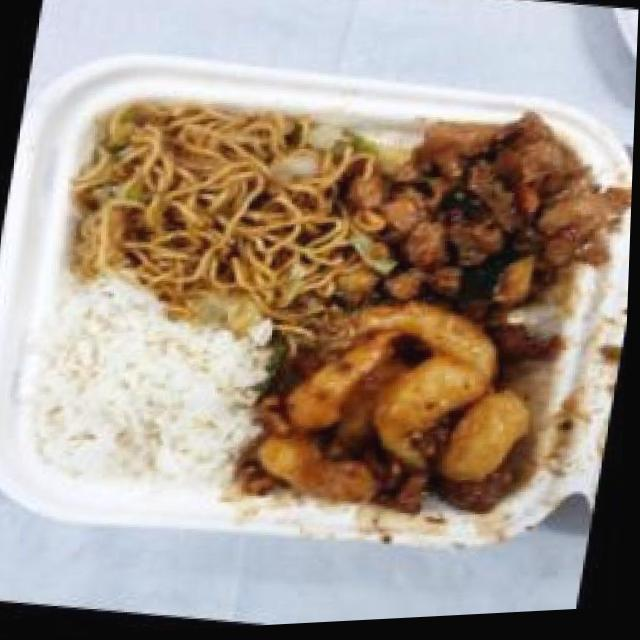Chow Mein: (58, 80, 370, 335)
Honey Walnut Shrimp: (241, 285, 566, 543)
Kung Pao Chicken: (333, 99, 634, 344)
White Steamed Rice: (13, 278, 280, 507)
